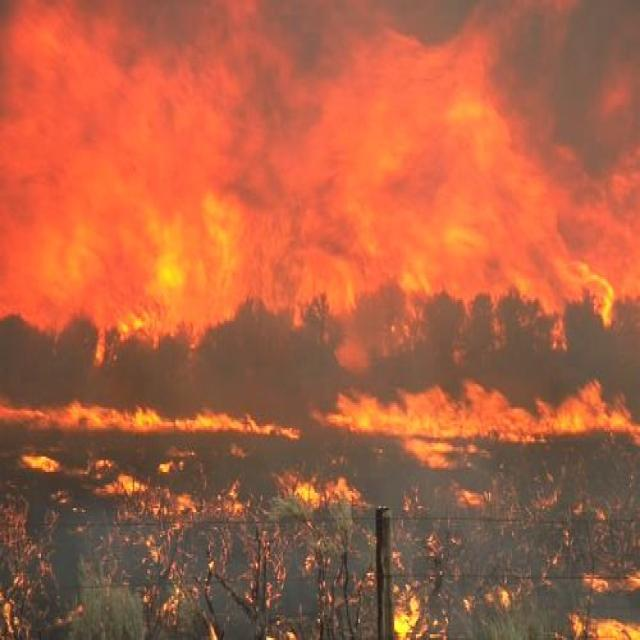Fire: (0, 0, 626, 350), (0, 356, 640, 479), (2, 450, 257, 520), (384, 572, 451, 640), (280, 463, 374, 510), (547, 600, 640, 640), (577, 563, 640, 597)
